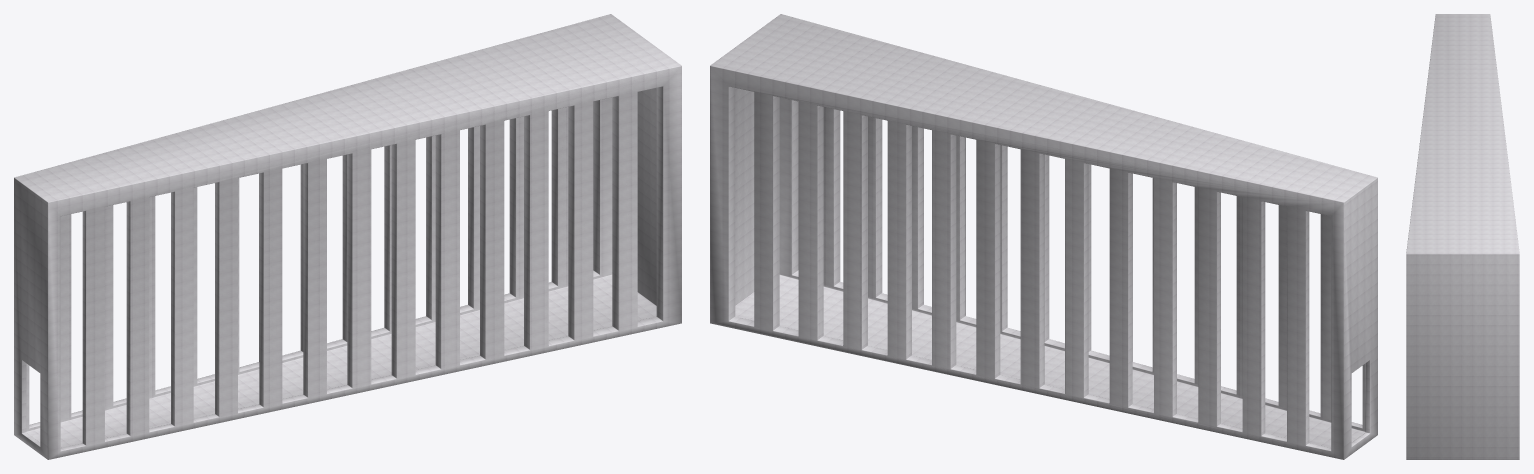
Rendered from kolonnas.glb.
3 renders of one model, left to right at view 1: azimuth 30°, elevation 25°; view 2: azimuth 150°, elevation 25°; view 3: azimuth 270°, elevation 25°, orthographic. The views are drawn at different scales.
Parts seen in each view (by area): view 1: kolonnas; view 2: kolonnas; view 3: kolonnas.
Part boxes in pixels (x1,y1,x2,y2): kolonnas: [14, 14, 681, 459]; kolonnas: [710, 14, 1377, 459]; kolonnas: [1406, 14, 1519, 459].
Size of the model in its own units: 50 by 20 by 10.
Materials: 1 (1 with a texture image).
